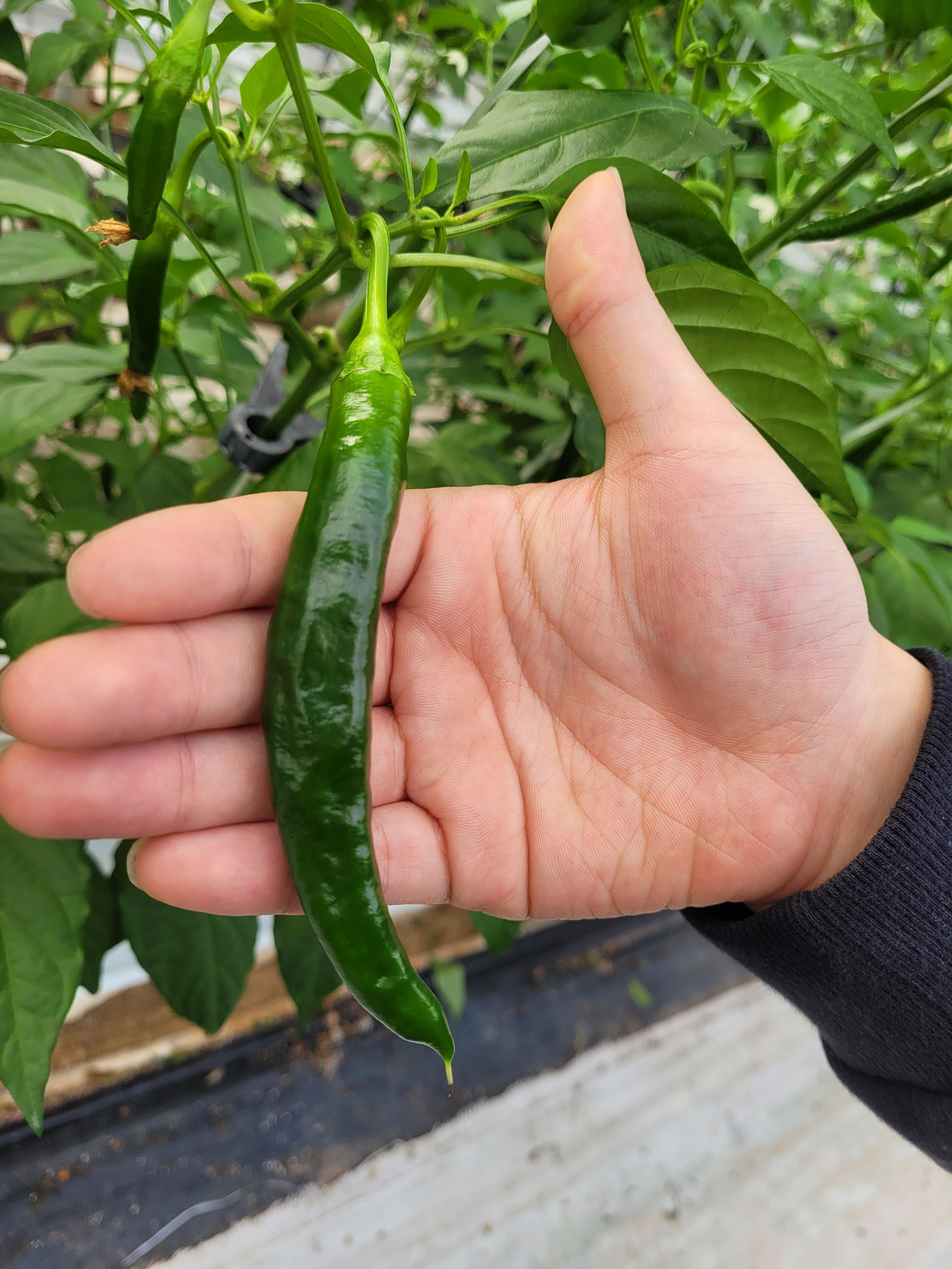Buah Cabai Sehat: (259, 322, 459, 1093), (123, 35, 201, 250)
